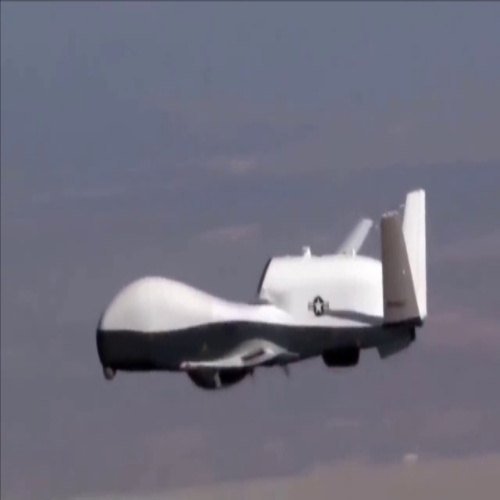uav1054: (88, 187, 434, 394)
